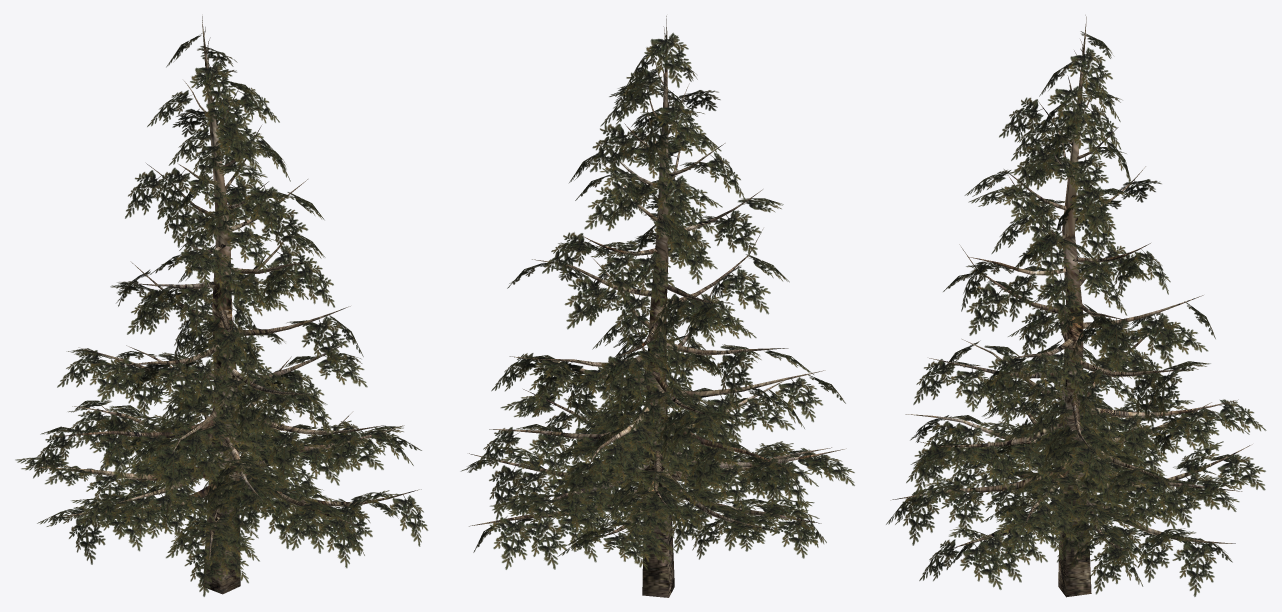
The model's file is pine_tree_single_01.glb.
The picture shows the model from 3 angles, left to right: view 1: azimuth 30°, elevation 25°; view 2: azimuth 150°, elevation 25°; view 3: azimuth 270°, elevation 25°; orthographic projection. The views are drawn at different scales.
Visible parts, largest first — view 1: group47, tree; view 2: group47, tree; view 3: group47, tree.
Boxes of the visible parts, box(x1,y1,x2,y2) form: group47: box(15, 31, 428, 596); tree: box(26, 16, 421, 594); group47: box(460, 32, 854, 570); tree: box(469, 16, 846, 597); group47: box(886, 31, 1266, 596); tree: box(890, 15, 1252, 597).
Bounding box in the file's own units: 718 × 1141 × 695.
Materials: 2 (2 with a texture image).
